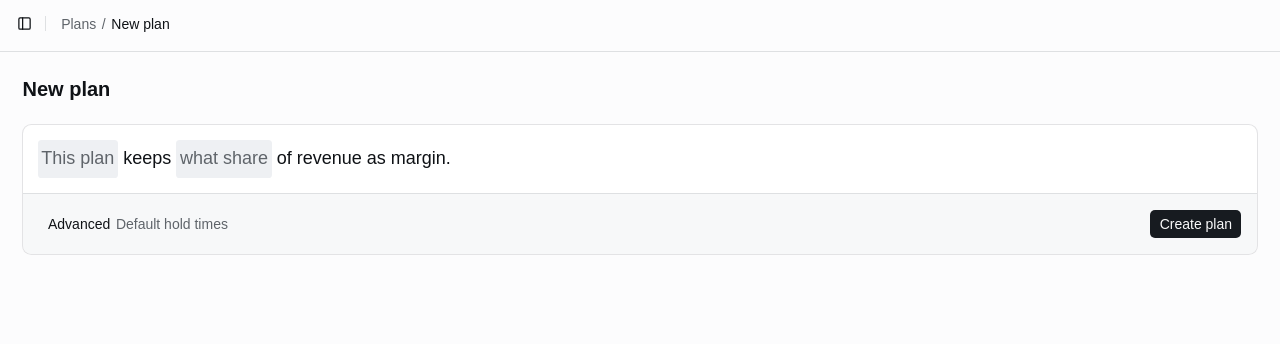
an incomplete sentence shows its problems and sends nothing
The width and height of the screenshot is (1280, 344).
Expected: the heading "New plan" is shown, x1=22 y1=74 x2=110 y2=102
Click the button "Create plan".
click(1196, 224)  # box x1=1149 y1=209 x2=1242 y2=239
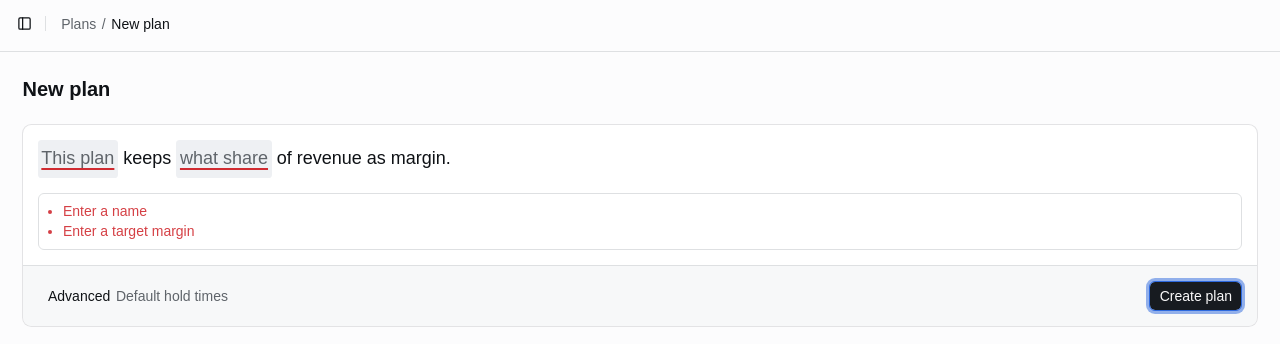
Now the list items read "Enter a name", "Enter a target margin", in this order, box x1=63 y1=203 x2=147 y2=219; x1=63 y1=223 x2=194 y2=239
